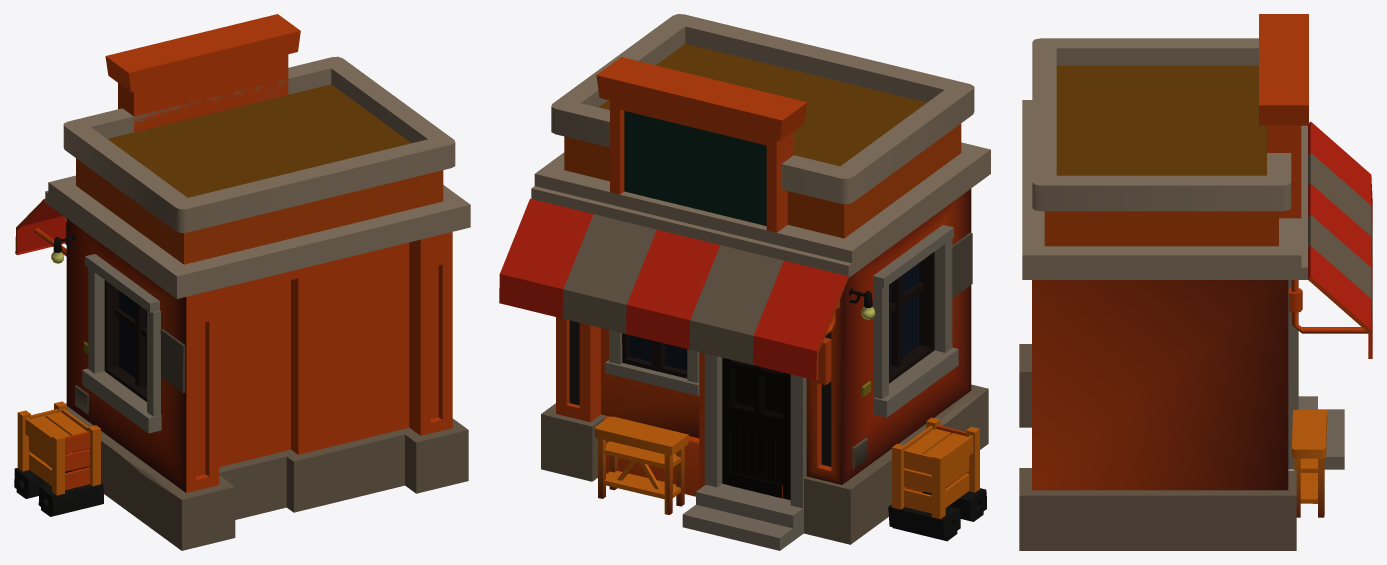
The model's file is house_shop2.fbx.
The picture shows the model from 3 angles, left to right: view 1: azimuth 30°, elevation 25°; view 2: azimuth 150°, elevation 25°; view 3: azimuth 270°, elevation 25°; orthographic projection. The views are drawn at different scales.
Visible parts, largest first — view 1: building_shop; view 2: building_shop; view 3: building_shop.
Boxes of the visible parts, x1,y1,x2,y2 form: building_shop: [14, 14, 470, 550]; building_shop: [499, 14, 990, 550]; building_shop: [1019, 14, 1372, 550].
Size of the model in its own units: 497 by 516 by 397.
